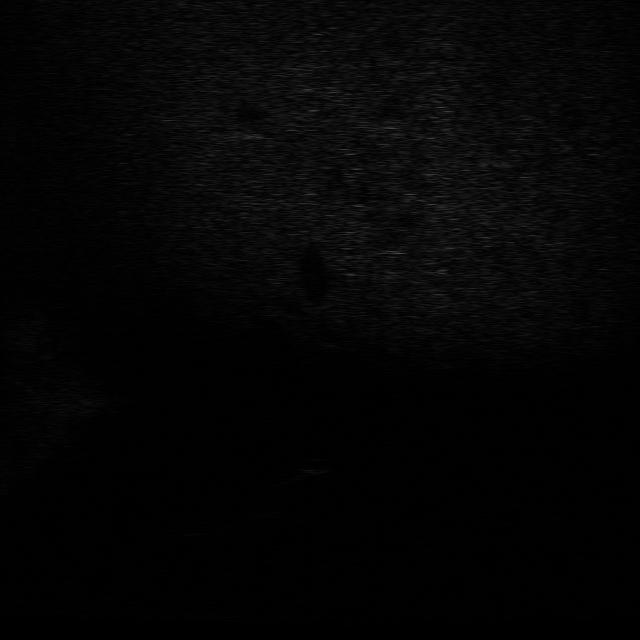ball: (284, 448, 338, 479)
square cage: (216, 486, 289, 524)
